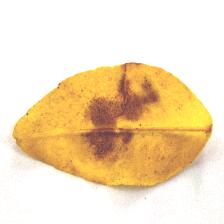black spot: (59, 67, 161, 152)
